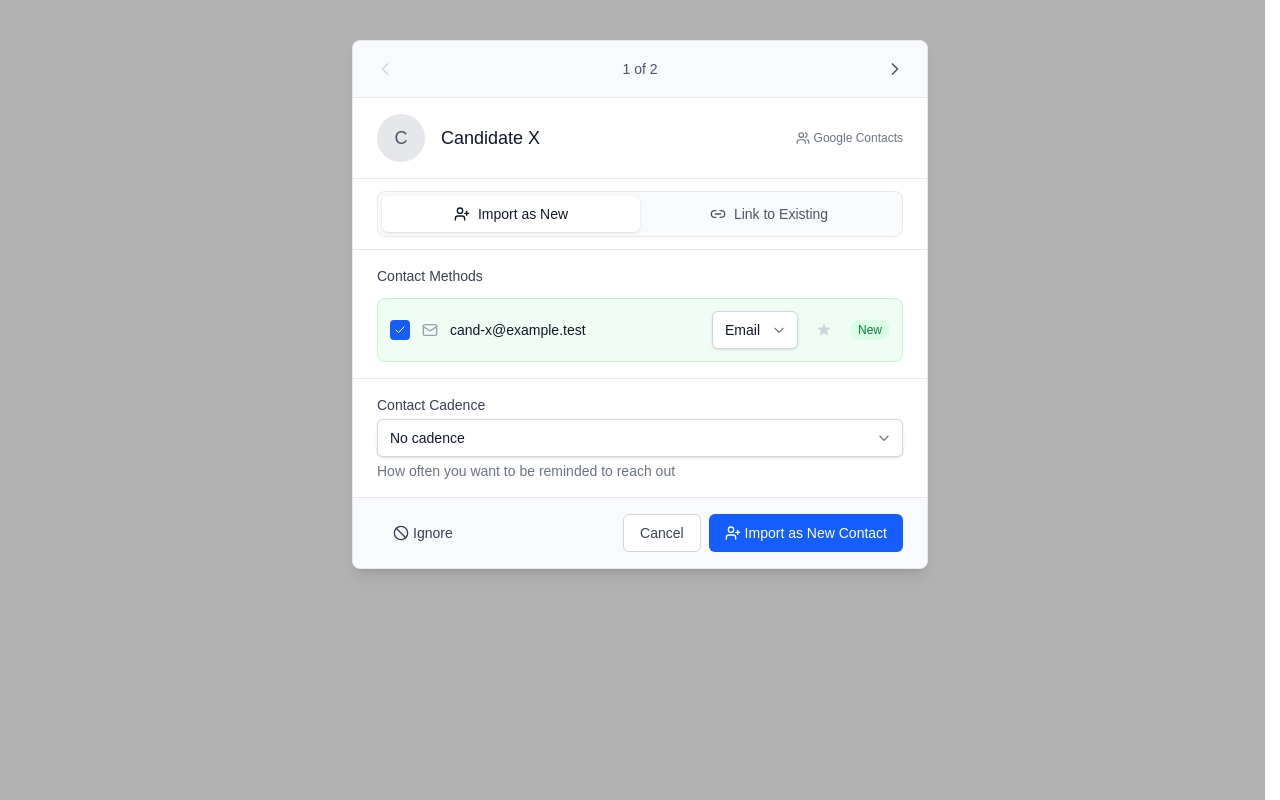
Test case: ContactCandidateResolver candidate tracking › targets the clicked candidate’s real neighbor when Next is pressed during the fallback window
Expected: the heading "Candidate X" is shown, [441, 128, 540, 148]
Click the button named "Next candidate" at (895, 69), box [879, 53, 911, 85]
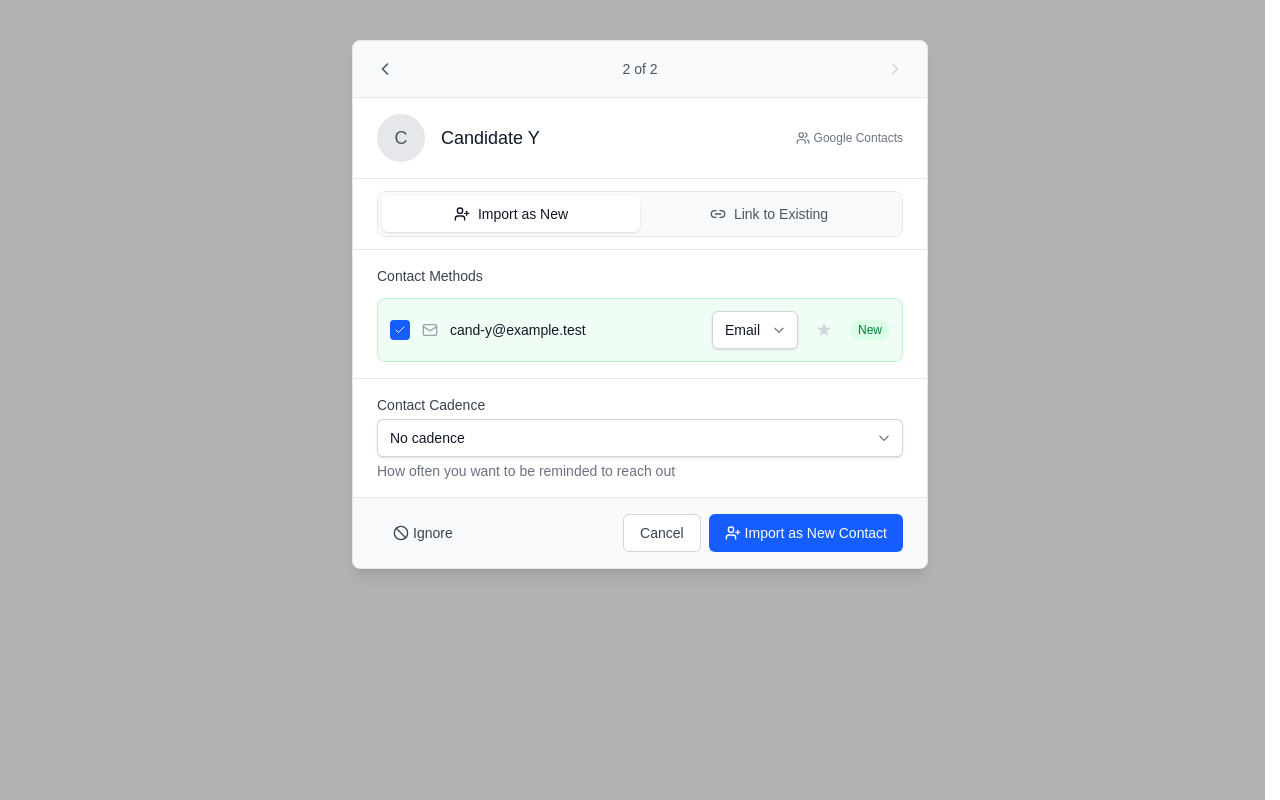
Now the heading "Candidate Y" is shown, box [441, 128, 540, 148]
Now the text "2 of 2" is shown, box [622, 59, 658, 79]
